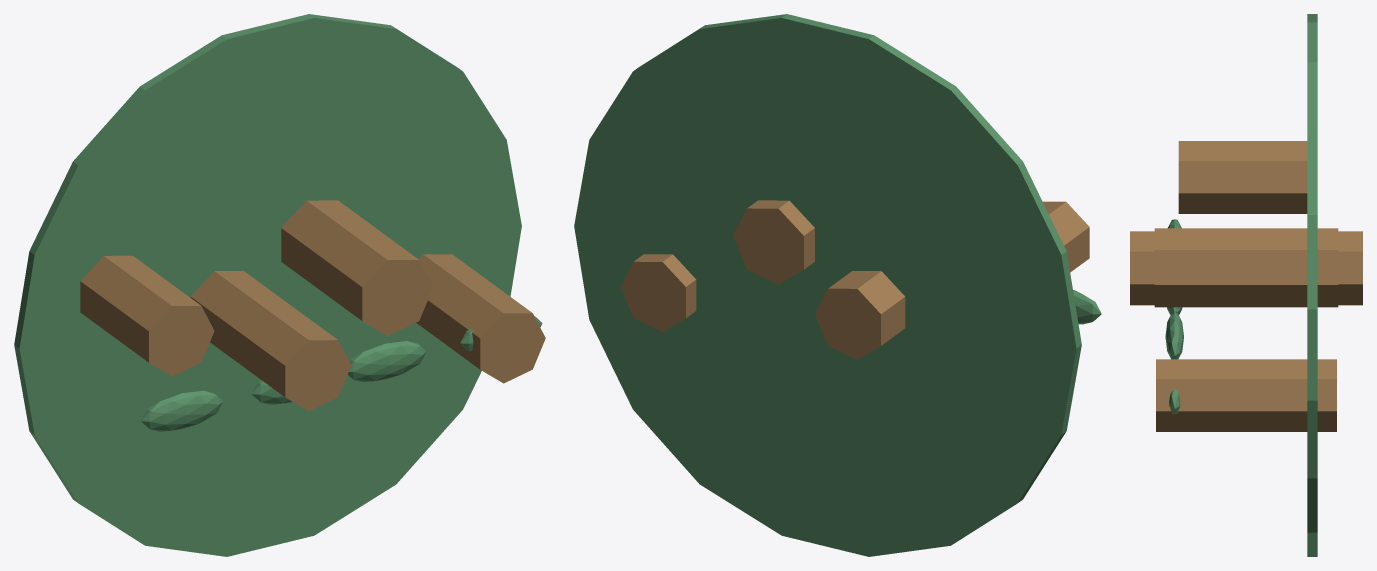
Rendered from 02_local_prop_cluster.glb.
3 views of the same model, side by side, from view 1: azimuth 30°, elevation 25°; view 2: azimuth 150°, elevation 25°; view 3: azimuth 270°, elevation 25° (orthographic). The views are drawn at different scales.
Parts seen in each view (by area): view 1: scatter_base, root_stump_2, root_stump_1, root_stump_0, root_stump_3, moss_0, moss_2; view 2: scatter_base, root_stump_1, root_stump_2, root_stump_3, root_stump_0; view 3: root_stump_2, root_stump_3, root_stump_0, scatter_base, root_stump_1, moss_2.
Boxes of the visible parts, box(x1,y1,x2,y2) form: scatter_base: box(14, 14, 521, 556); root_stump_2: box(281, 200, 433, 335); root_stump_1: box(190, 271, 351, 411); root_stump_0: box(80, 255, 214, 376); root_stump_3: box(416, 254, 545, 383); moss_0: box(141, 390, 222, 431); moss_2: box(347, 341, 426, 381); scatter_base: box(574, 14, 1081, 556); root_stump_1: box(815, 271, 905, 359); root_stump_2: box(733, 200, 814, 284); root_stump_3: box(620, 254, 696, 331); root_stump_0: box(1043, 201, 1089, 272); root_stump_2: box(1154, 228, 1338, 307); root_stump_3: box(1156, 359, 1336, 431); root_stump_0: box(1178, 141, 1307, 213); scatter_base: box(1307, 14, 1317, 556); root_stump_1: box(1130, 231, 1362, 305); moss_2: box(1165, 312, 1183, 359).
Size of the model in its own units: 1.9 by 1.87 by 0.8122.
